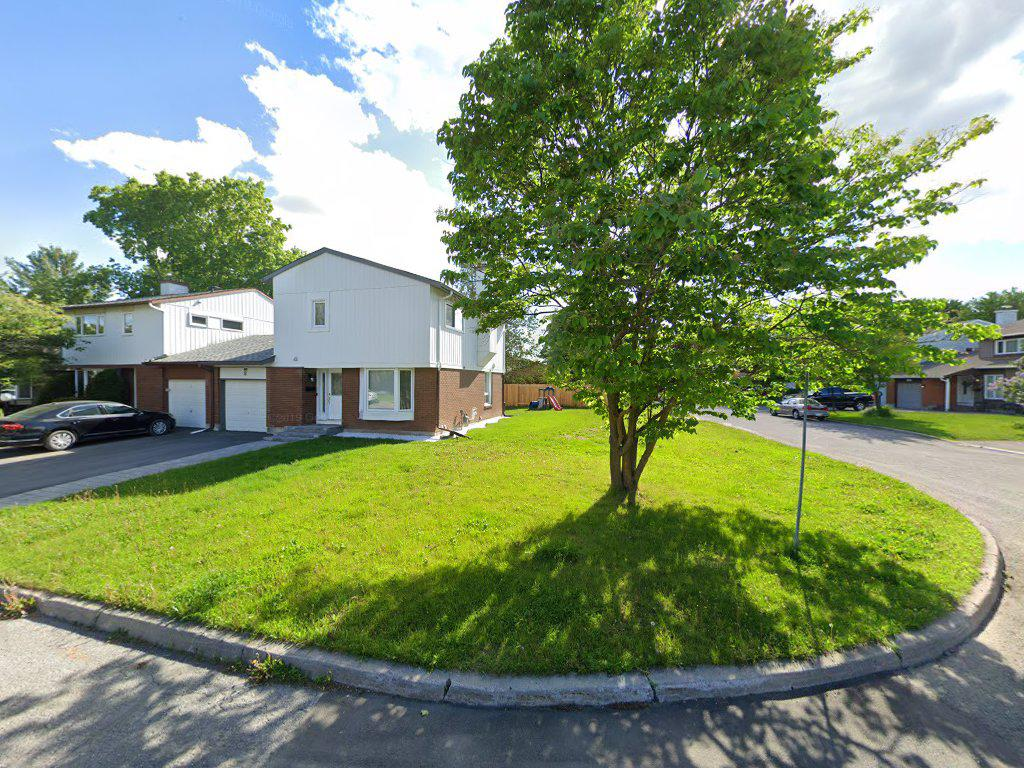trunk: (606, 391, 656, 493)
